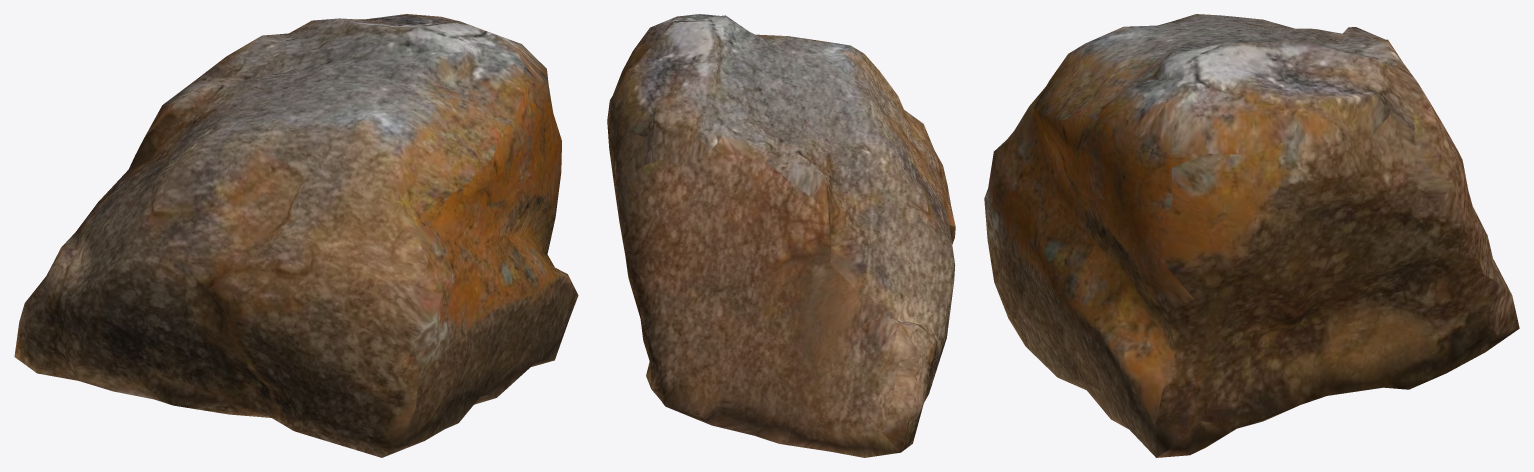
The model's file is prock_e.glb.
The picture shows the model from 3 angles, left to right: view 1: azimuth 30°, elevation 25°; view 2: azimuth 150°, elevation 25°; view 3: azimuth 270°, elevation 25°; orthographic projection. The views are drawn at different scales.
Parts seen in each view (by area): view 1: prock_e; view 2: prock_e; view 3: prock_e.
Boxes of the visible parts, x1,y1,x2,y2 form: prock_e: (14, 14, 578, 457); prock_e: (607, 14, 955, 457); prock_e: (984, 14, 1519, 457).
Size of the model in its own units: 2.2 by 1.65 by 2.19.
1 material, 1 textured.
